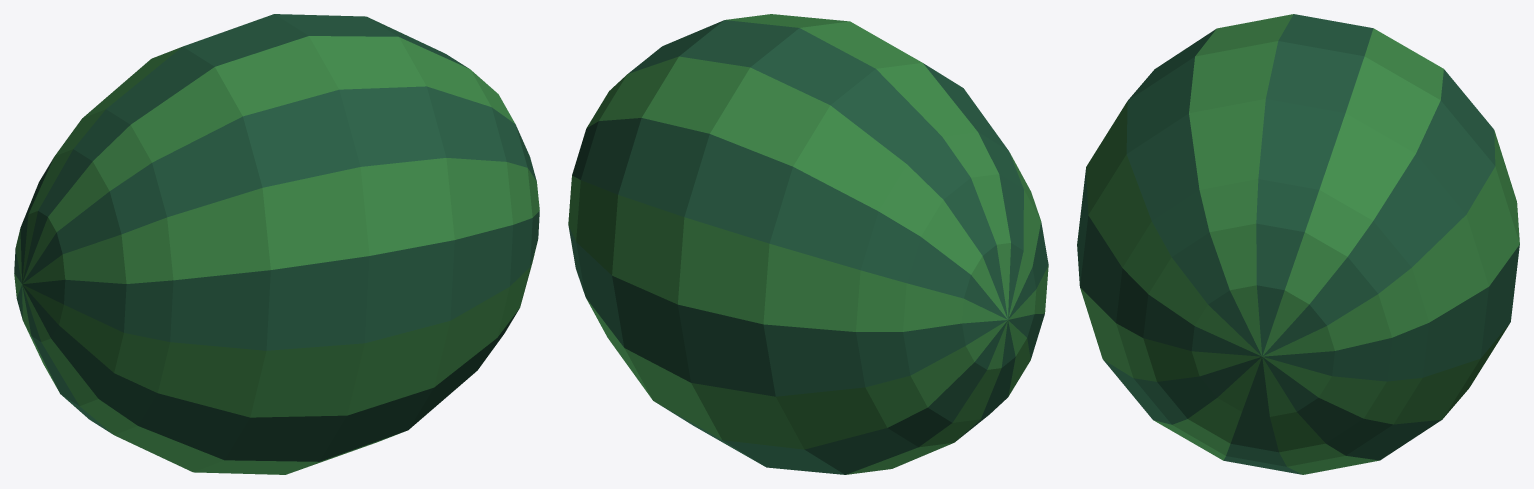
Rendered from watermelon.fbx.
3 renders of one model, left to right at view 1: azimuth 30°, elevation 25°; view 2: azimuth 150°, elevation 25°; view 3: azimuth 270°, elevation 25°, orthographic. The views are drawn at different scales.
Parts seen in each view (by area): view 1: watermelon_01; view 2: watermelon_01; view 3: watermelon_01.
Part boxes in pixels (x1,y1,x2,y2): watermelon_01: [14, 14, 539, 474]; watermelon_01: [568, 14, 1048, 474]; watermelon_01: [1077, 14, 1519, 474].
Bounding box in the file's own units: 37.31 × 32.9 × 31.01.
